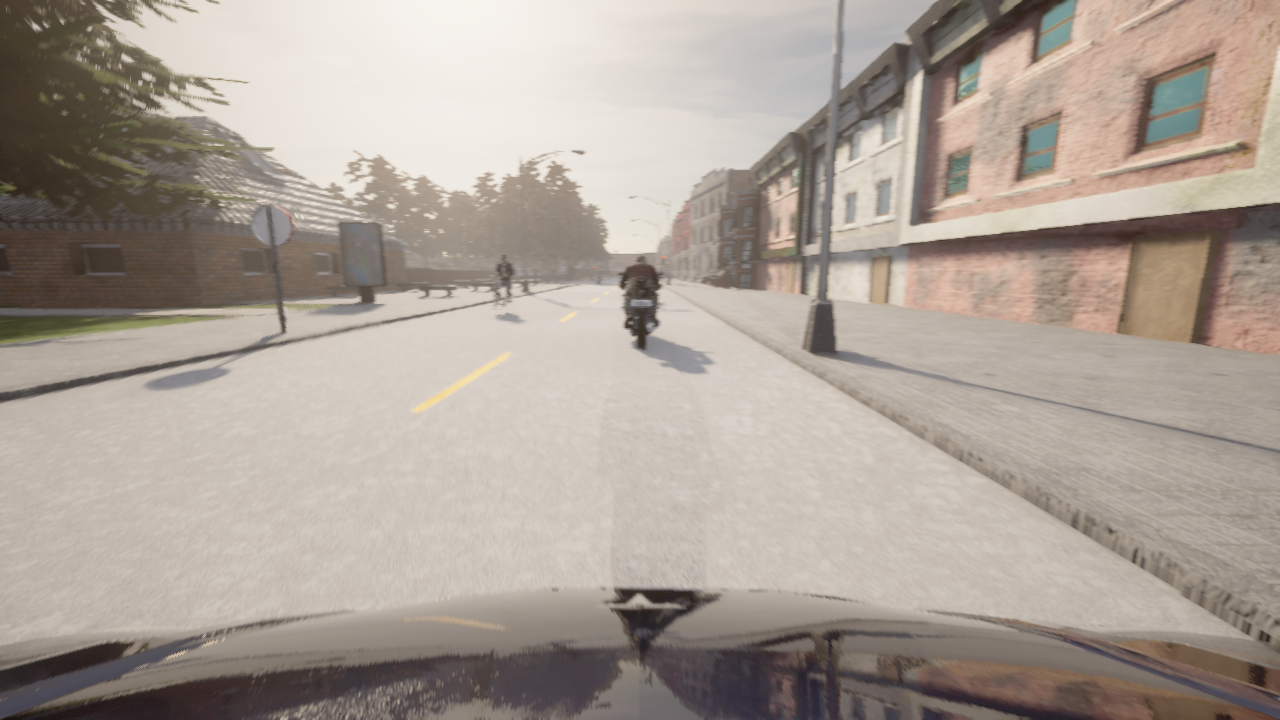cyclist: (0, 588, 1279, 719), (617, 273, 663, 348), (494, 276, 512, 315), (583, 275, 596, 281), (597, 275, 602, 285)
pedestrian: (490, 273, 494, 282)
